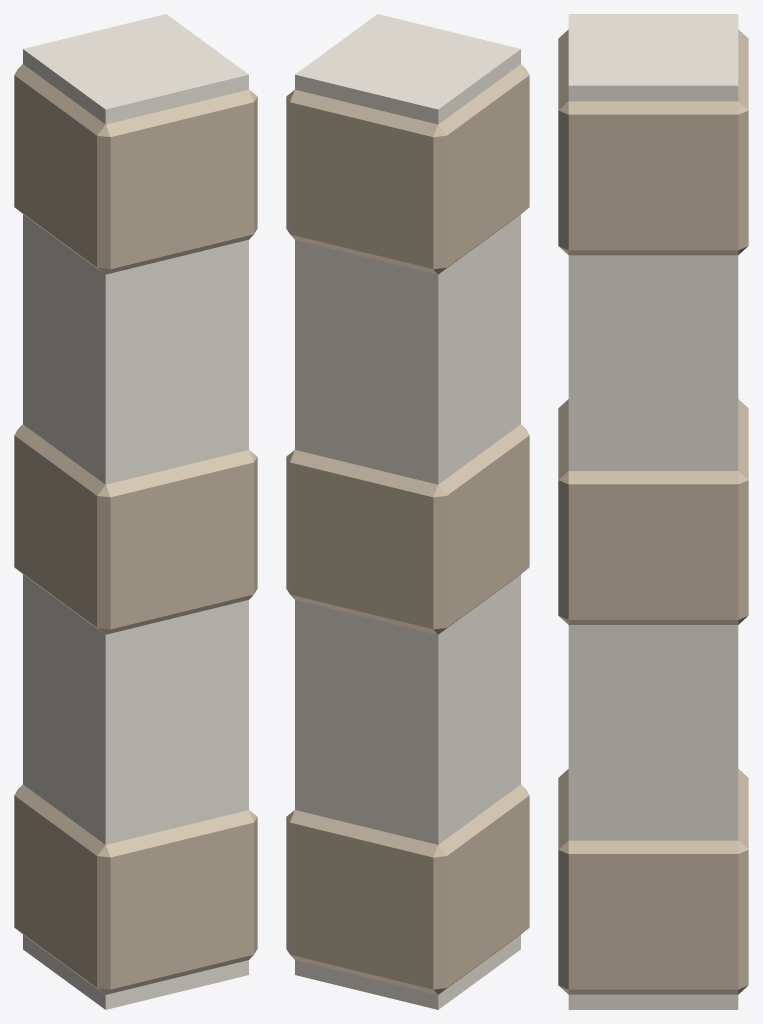
File: pier.glb
3 renders of one model, left to right at view 1: azimuth 30°, elevation 25°; view 2: azimuth 150°, elevation 25°; view 3: azimuth 270°, elevation 25°, orthographic. The views are drawn at different scales.
Visible parts, largest first — view 1: pier; view 2: pier; view 3: pier.
Boxes of the visible parts, left/top/right/bottom form: pier: left=14, top=14, right=257, bottom=1009; pier: left=286, top=14, right=529, bottom=1009; pier: left=558, top=14, right=748, bottom=1009.
Size of the model in its own units: 0.56 by 3 by 0.56.
2 materials, 2 textured.
